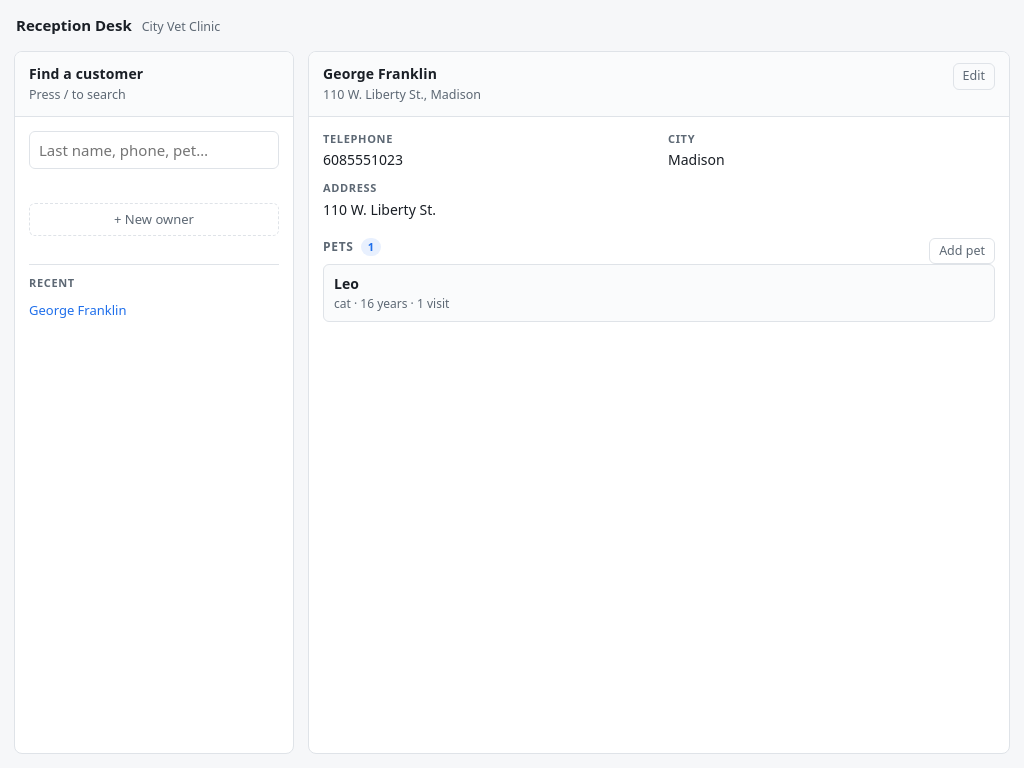
Test case: reception desk workflow › says why it will not add a pet, rather than doing nothing
Step 1. Click the button "Add pet" → (962,251), box [929,238,995,264]
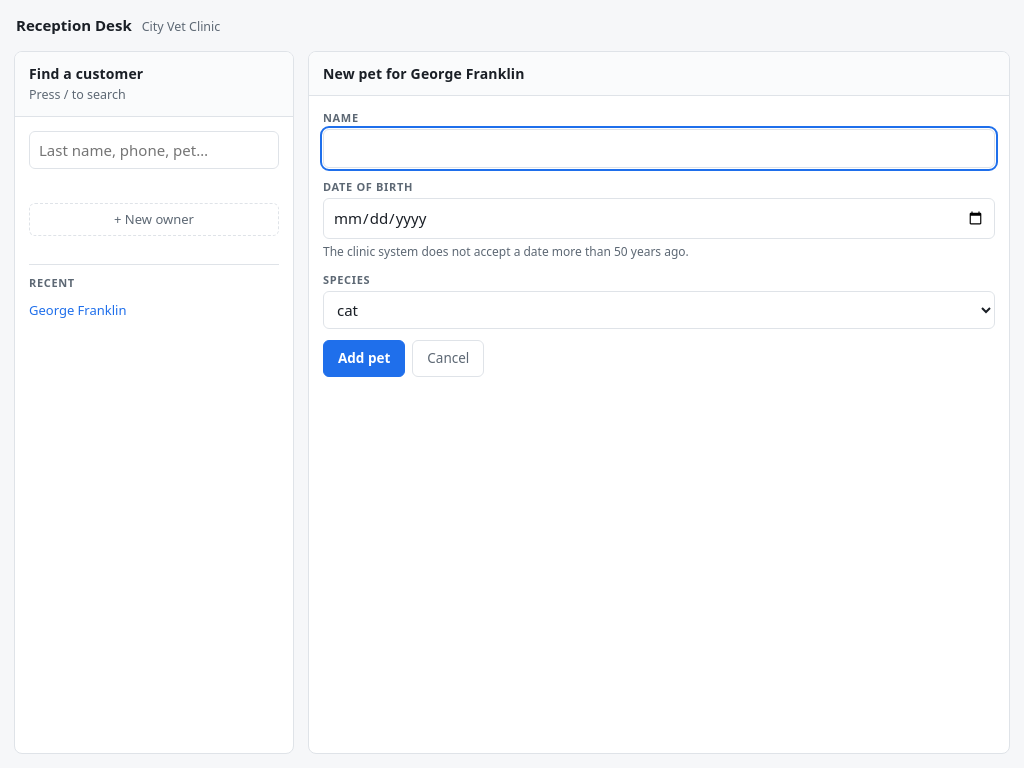
Step 2. Type "Rex" into the field labelled "Name" → (659,149), box [323,129,995,168]
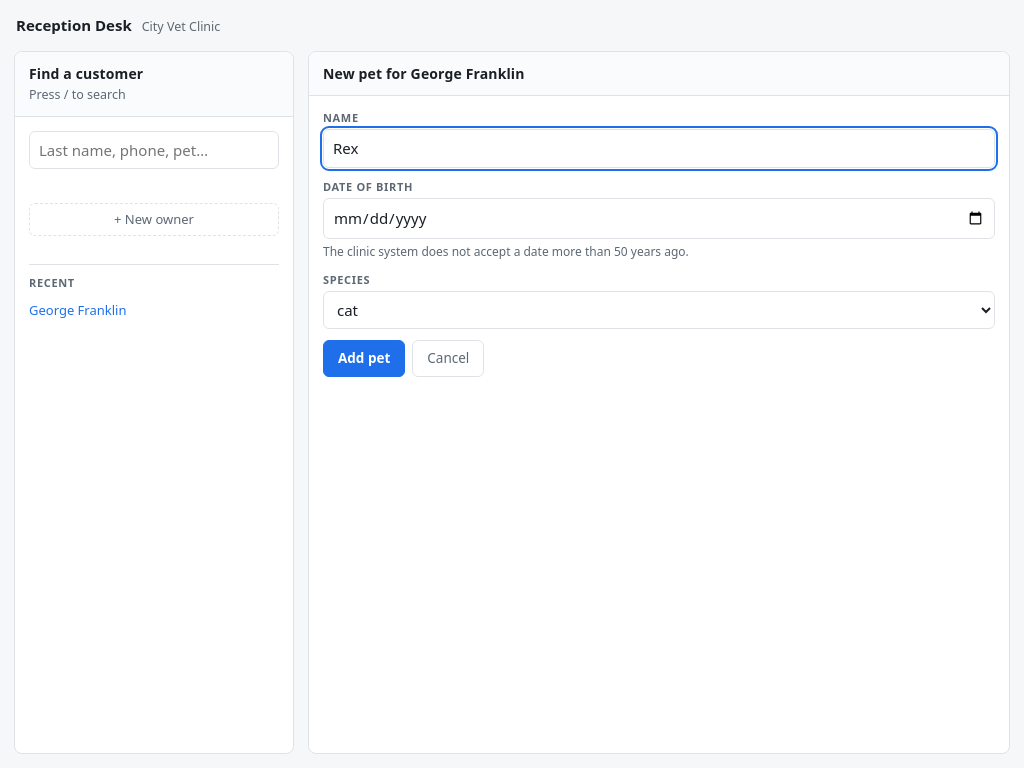
// Date of birth left empty — exactly the state the form opens in.
Step 3. Click the button "Add pet" → (364,358), box [323,340,405,377]
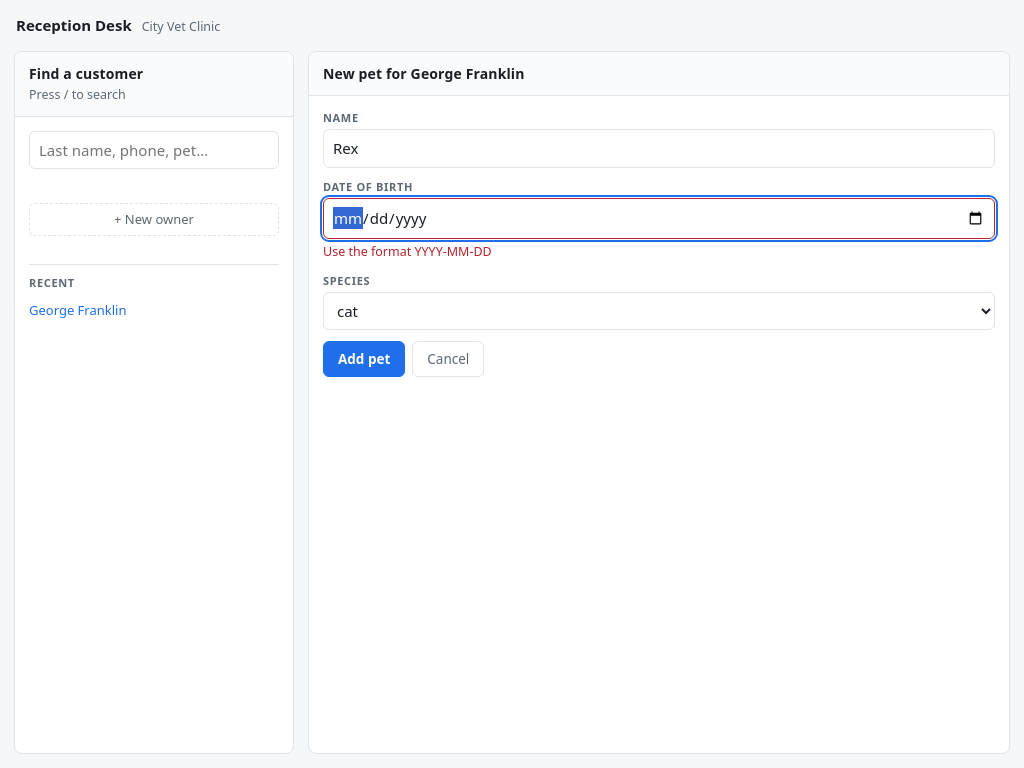
Expected: the text "Use the format YYYY-MM-DD" is shown, [323,243,492,260]
